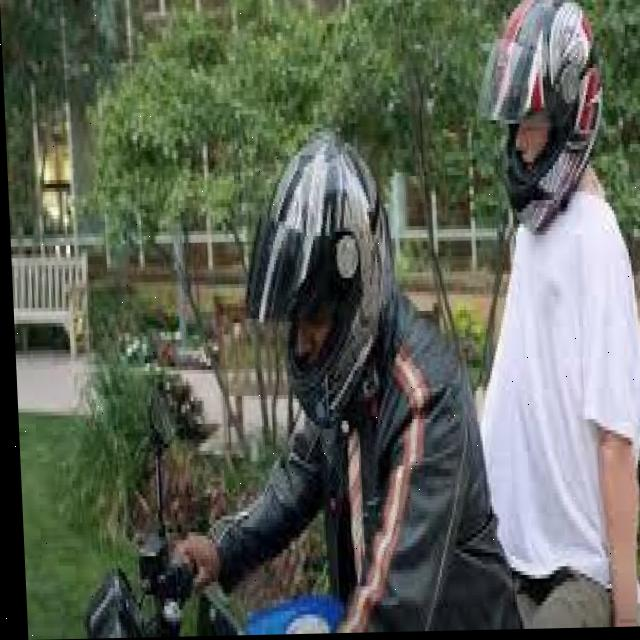Helmet: (239, 144, 392, 438), (468, 0, 609, 248)
